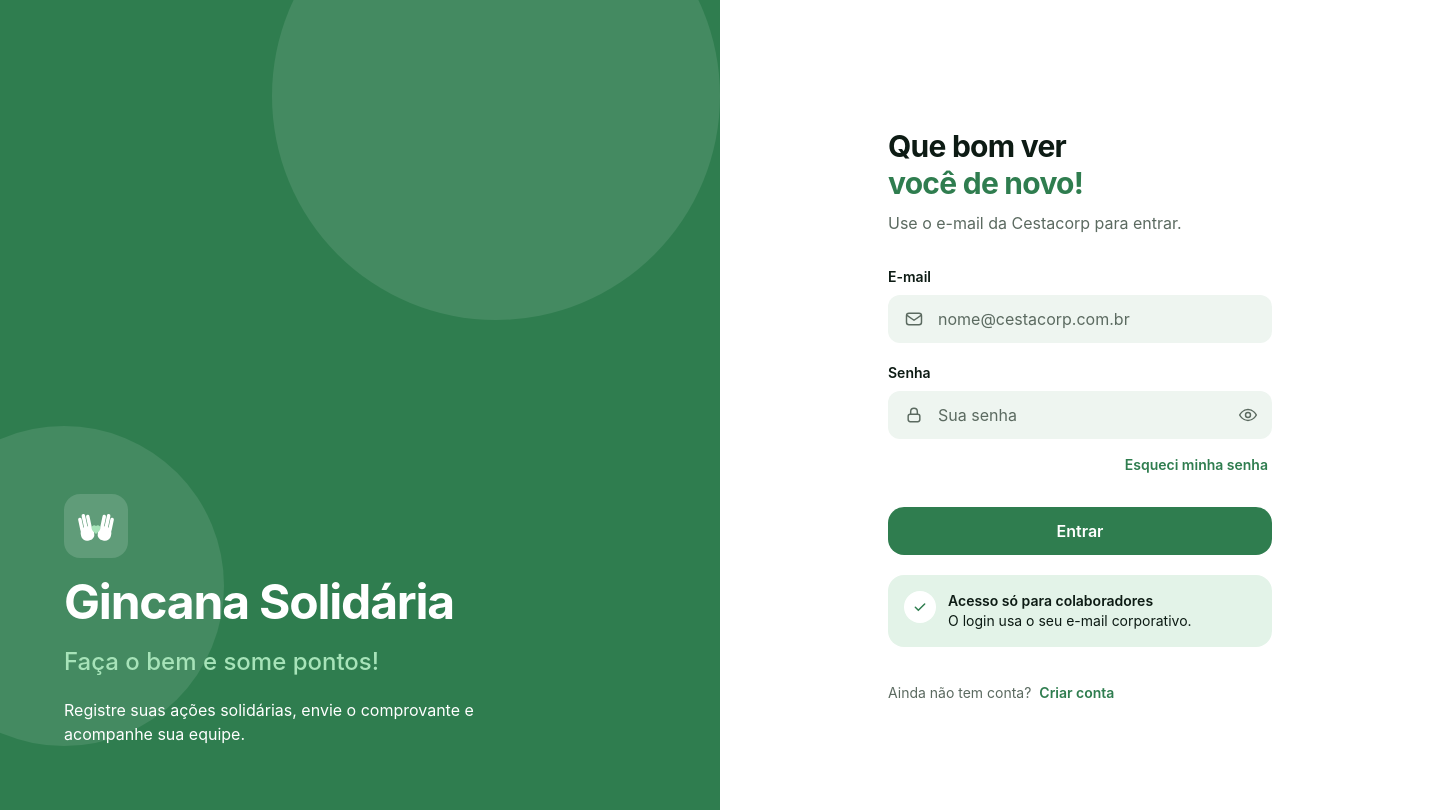
Tela de login › erro da API › explica que e-mail ou senha estão incorretos, sem sair do formulário
Type "pessoa.teste@exemplo.com.br" into the field labelled "E-mail".
click(1080, 318); type("pessoa.teste@exemplo.com.br")  # box left=888, top=294, right=1272, bottom=342
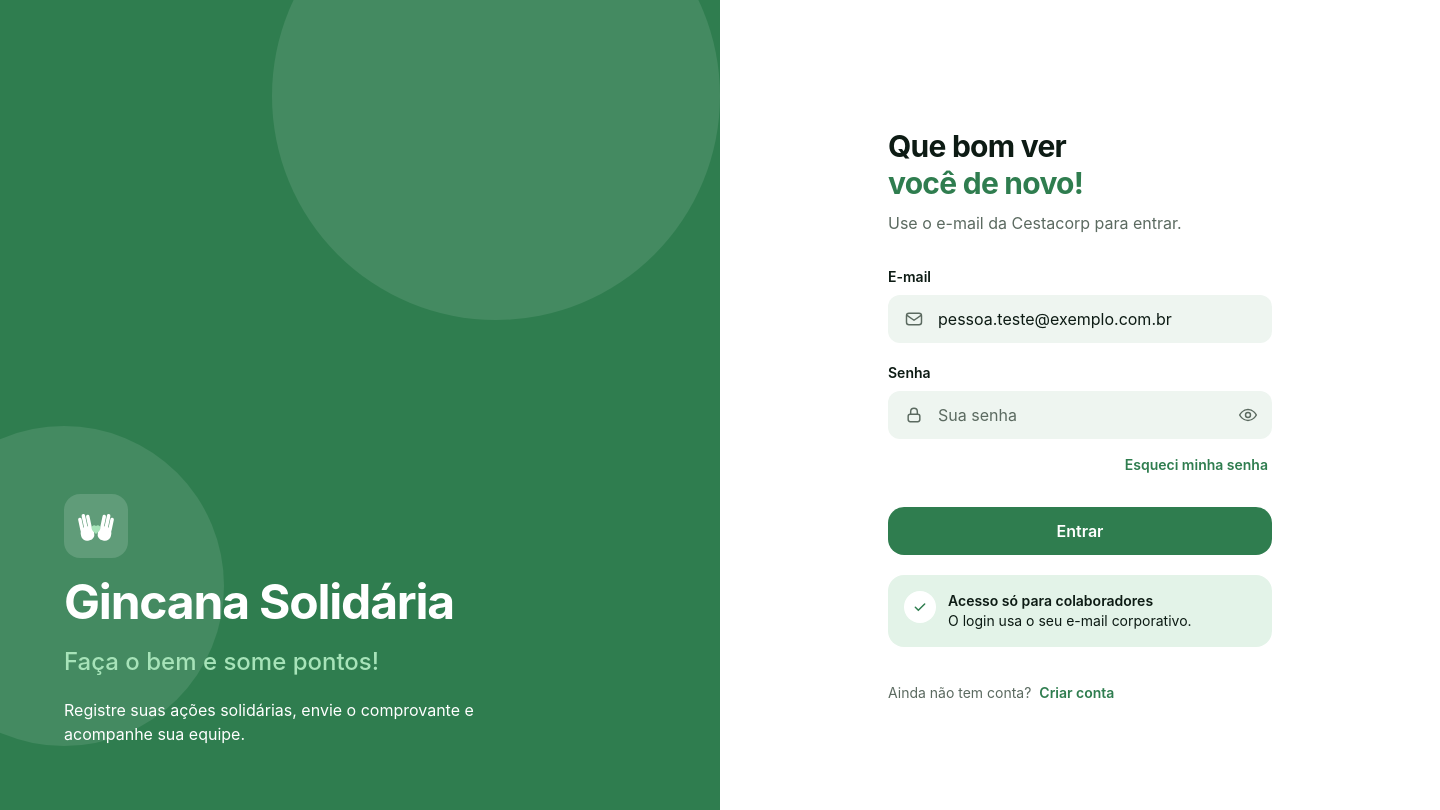
Type "senha-errada-1" into the password field labelled "Senha".
click(1080, 414); type("senha-errada-1")  # box left=888, top=390, right=1272, bottom=438
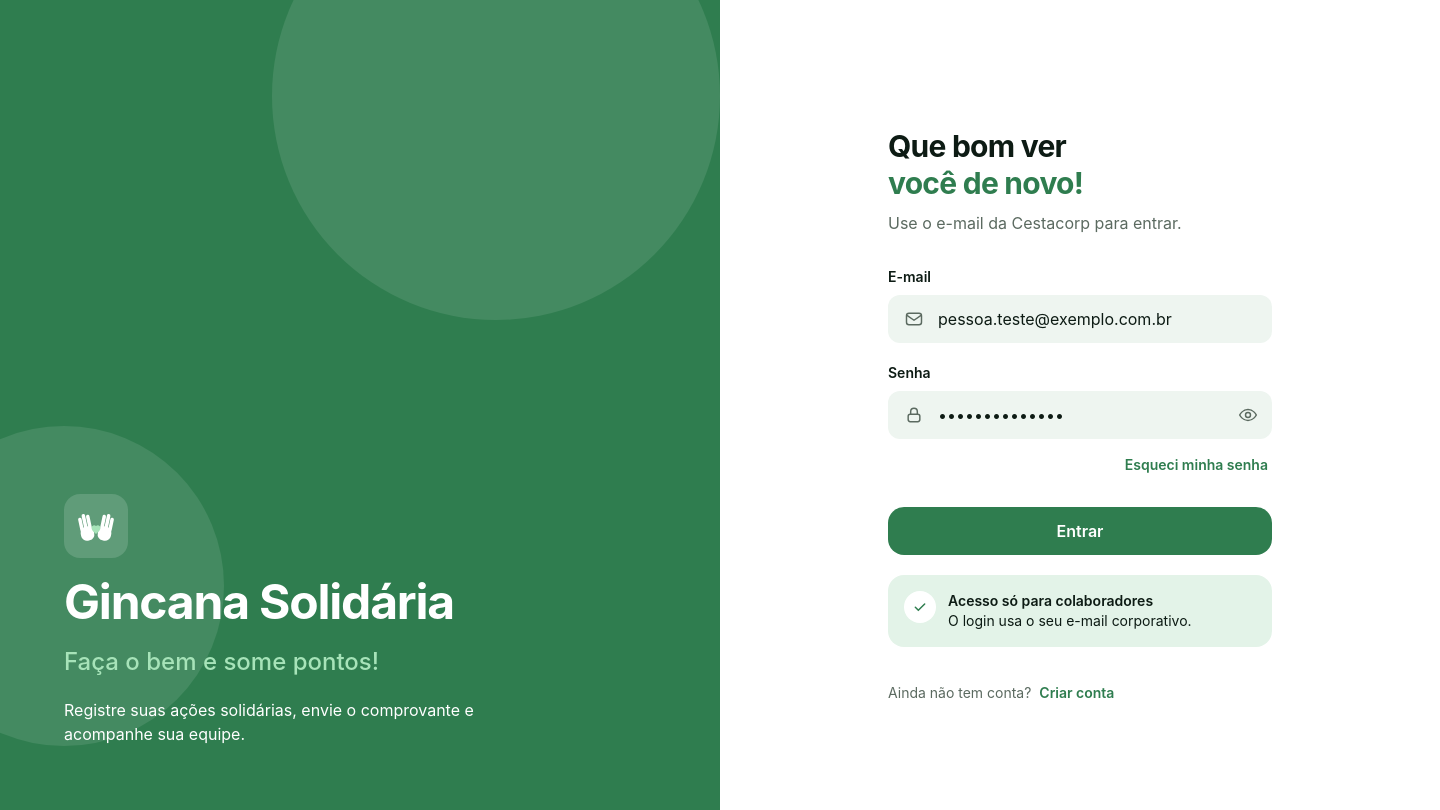
Click the button "Entrar".
click(1080, 530)  # box left=888, top=506, right=1272, bottom=554
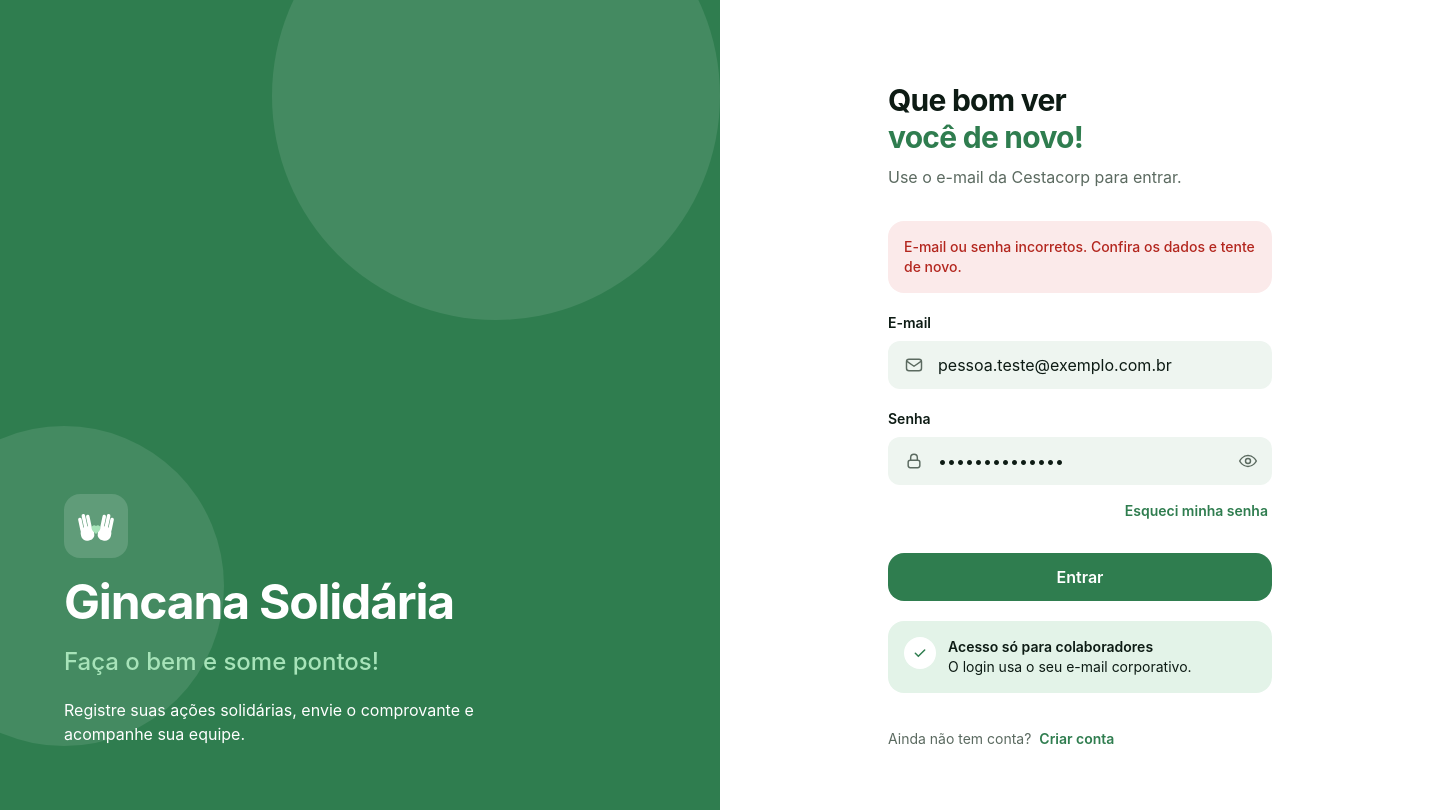
Expected: the button "Entrar" is enabled, left=888, top=552, right=1272, bottom=600
Expected: the message shows "E-mail ou senha incorretos", left=904, top=238, right=1255, bottom=274
